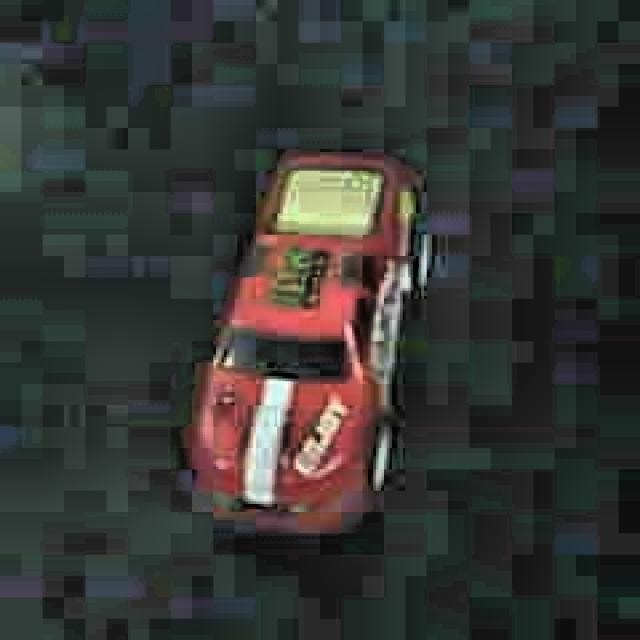car: (188, 147, 436, 538)
